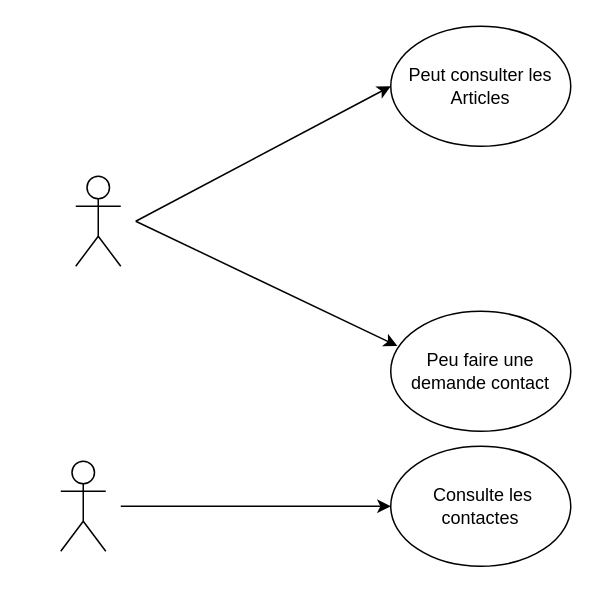
The diagram is 597 pixels wide and 609 high, and some of its shapes have lost their labels. Here are the shapes that lost their labels. From the top down, the centre of each, then its label:
point 97,220: Utilisateur
point 82,505: Administrateur
